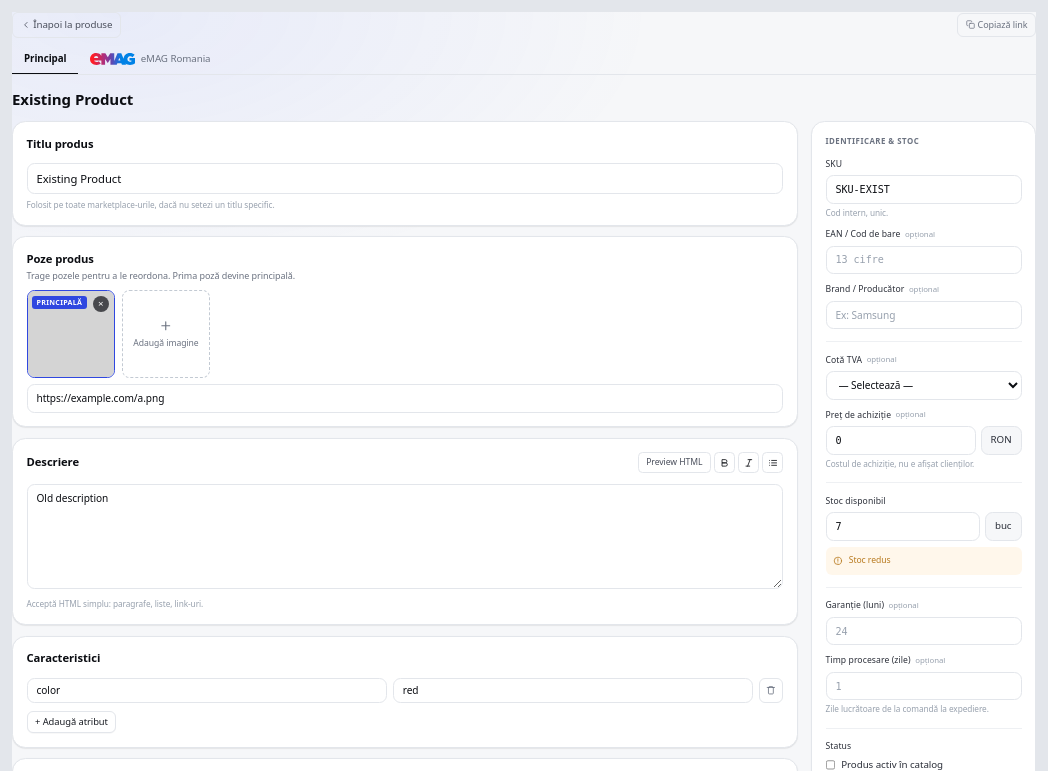
Test: MarketplaceContent — per-offer stock field › renders Stoc input pre-populated from syncState.stock_quantity
This screenshot has width=1048, height=771.
Click the button "eMAG Romania".
click(150, 60)  # box top-left (78, 45), bottom-right (222, 74)
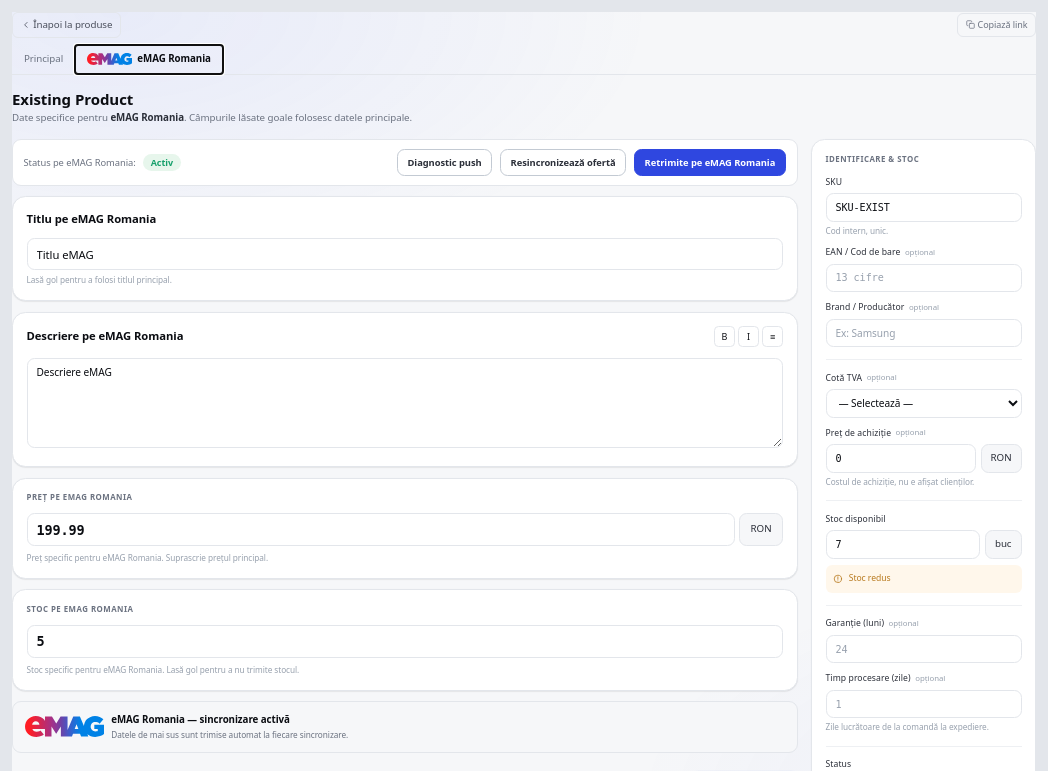
Expected: the number field named "Stoc pe" holds "5", top-left (26, 625), bottom-right (783, 658)
